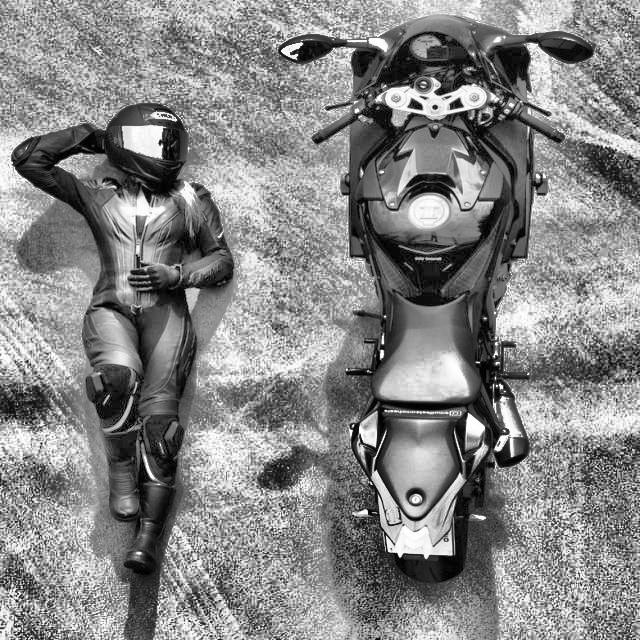Helmet: (101, 100, 192, 188)
